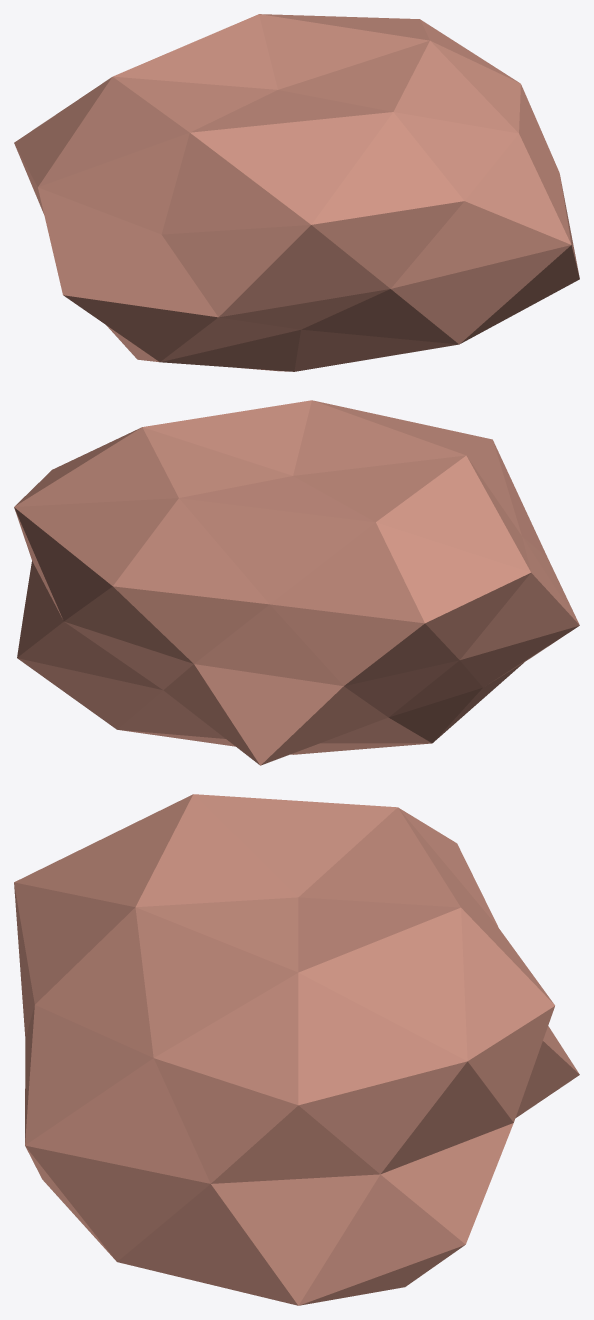
Rendered from sten_2.glb.
The picture shows the model from 3 angles, top to bottom: view 1: azimuth 30°, elevation 25°; view 2: azimuth 150°, elevation 25°; view 3: azimuth 270°, elevation 25°; orthographic projection. The views are drawn at different scales.
Visible parts, largest first — view 1: sten_2; view 2: sten_2; view 3: sten_2.
Boxes of the visible parts, box(x1,y1,x2,y2) form: sten_2: box(14, 14, 579, 371); sten_2: box(14, 400, 579, 765); sten_2: box(14, 794, 579, 1305).
Bounding box in the file's own units: 4.47 × 2.47 × 3.45.
